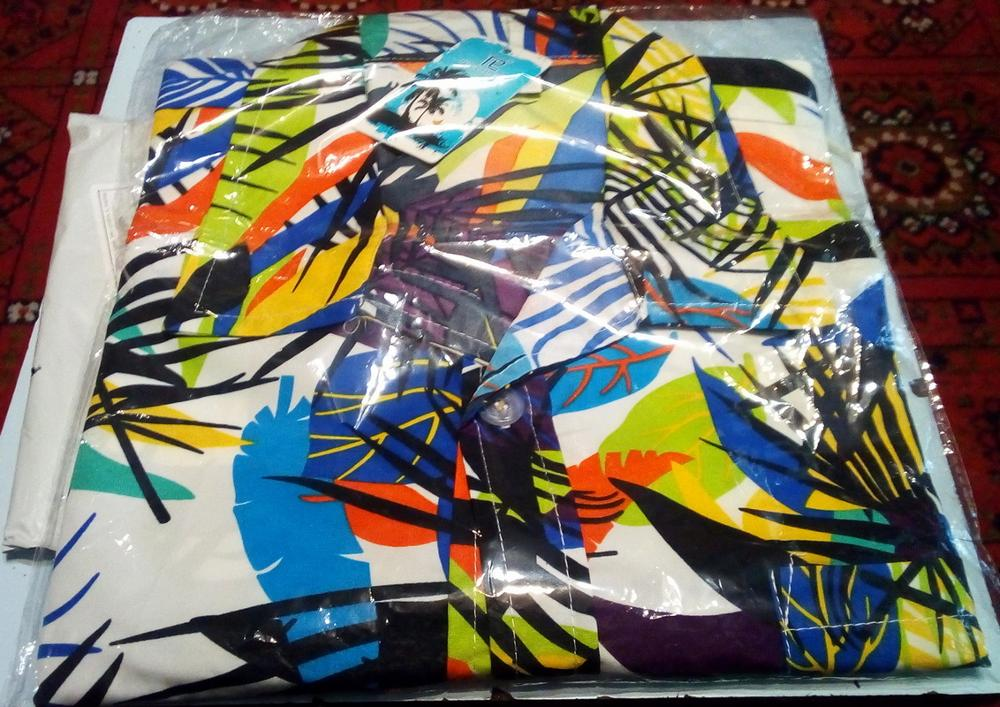shirts: (128, 11, 960, 680)
